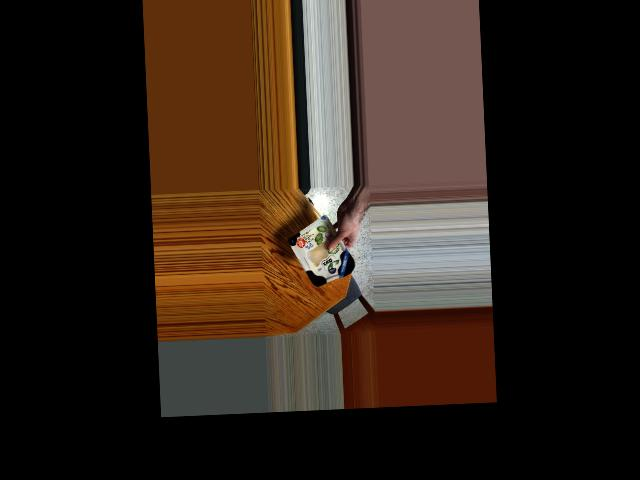cheese: (291, 222, 354, 286)
